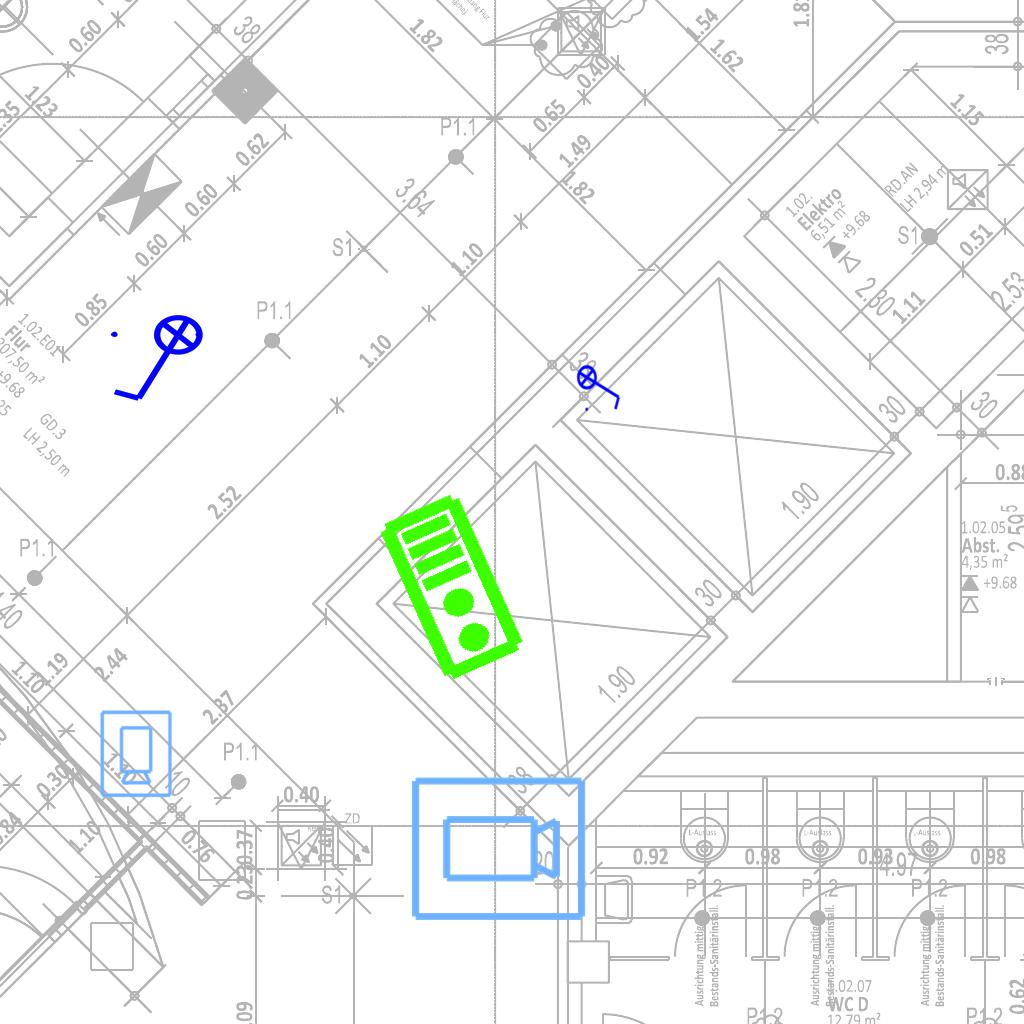Ausschalter_beleuchtet: (105, 313, 217, 409), (576, 358, 624, 414)
Gegensprechanlage_mit_Video: (374, 487, 533, 687)
KFO_Kamera_mit_Festobjektiv: (407, 773, 589, 927), (97, 708, 174, 799)
